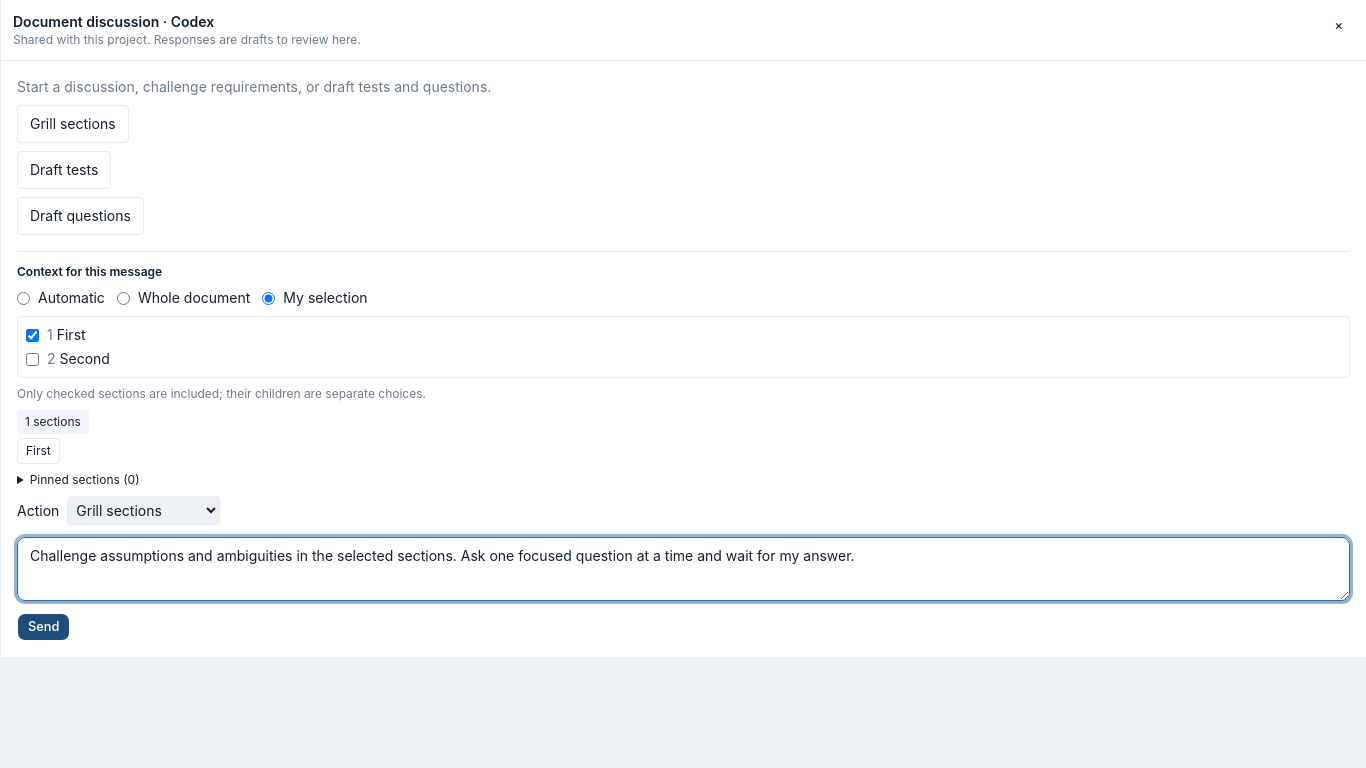
Test: document discussion › sends exactly the checked sections and editable action prompt without auto-sending
The width and height of the screenshot is (1366, 768).
Check: the checkbox labelled "First" is shown, box [26,329,39,342]
Click the checkbox labelled "Second" at [32, 360], box [26,353,39,366]
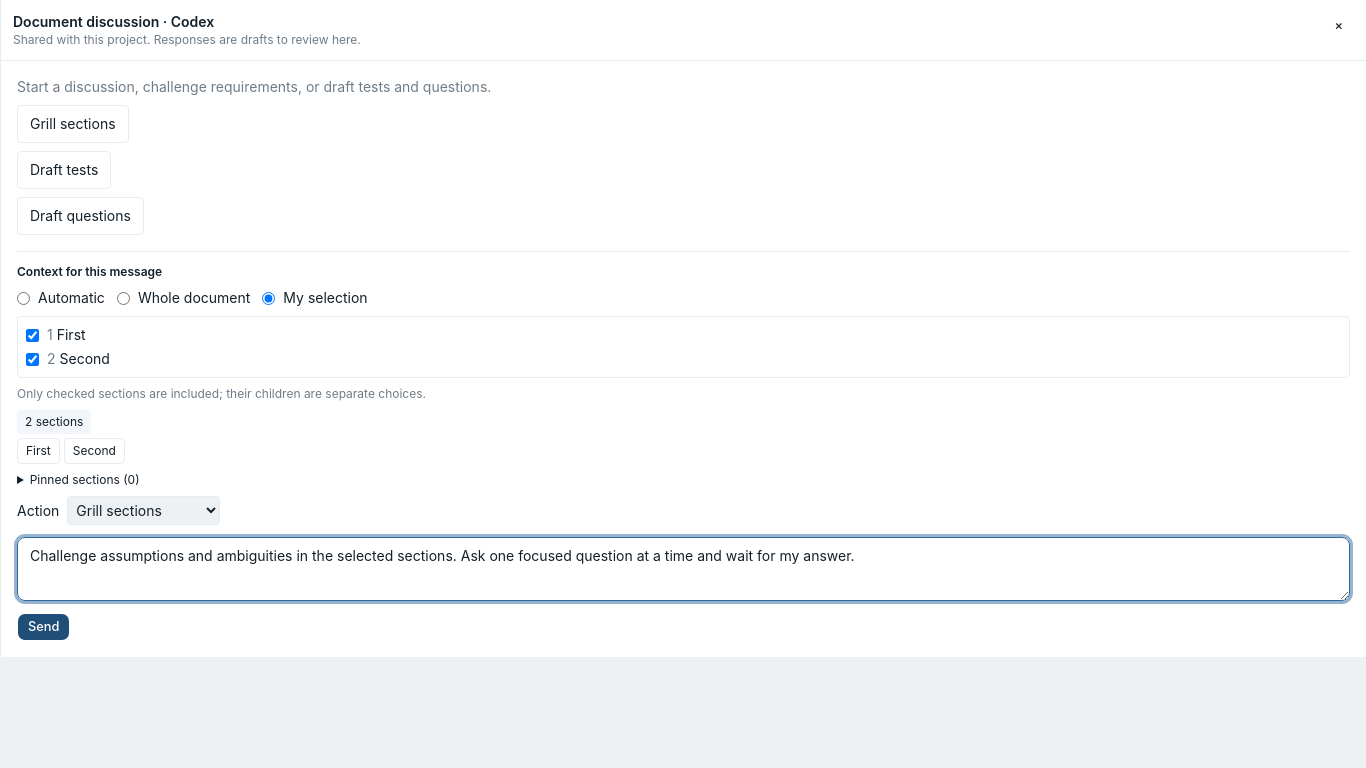
Select "Draft tests" in the dropdown labelled "Action" at [144, 511], box [67,496,220,525]
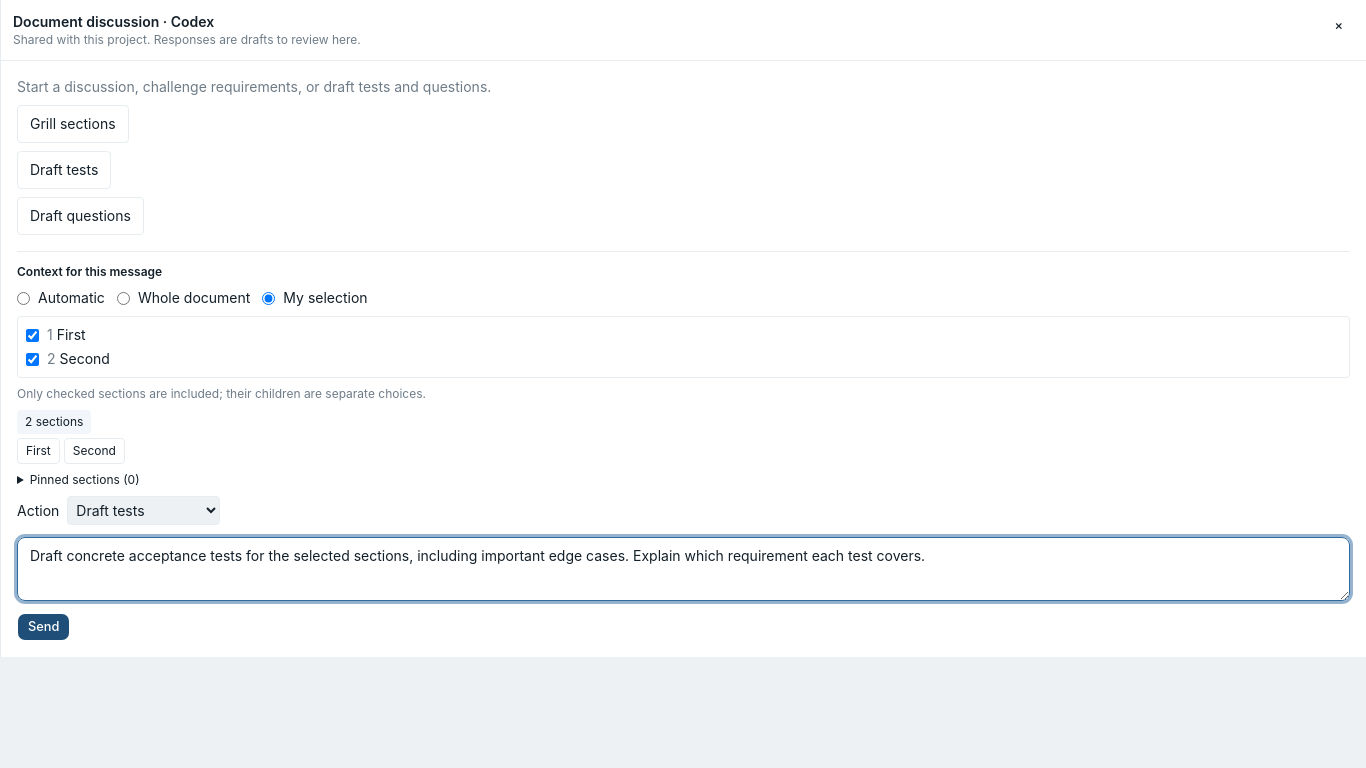
Replace the text in the text box named "Your instruction or reply" with "Test the failure paths too" at [684, 569], box [17,537,1350,601]
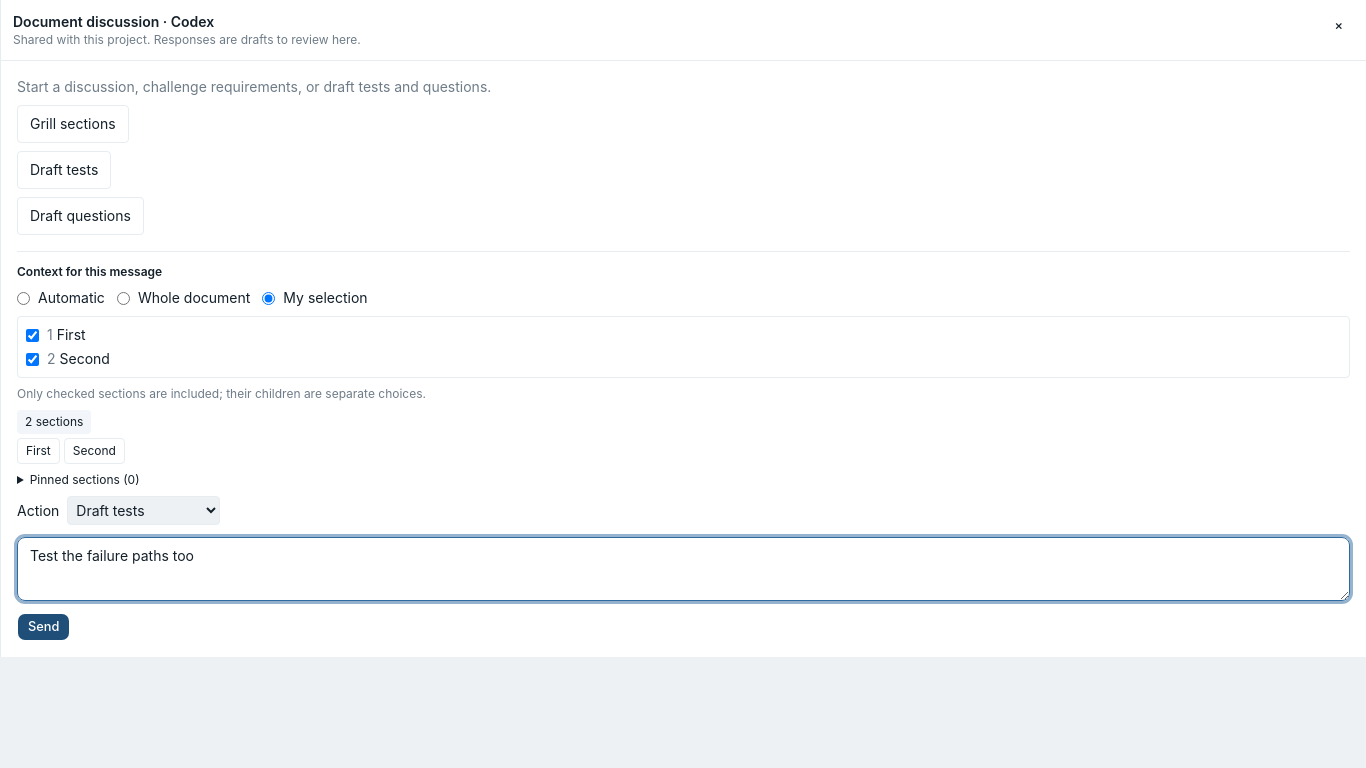
Click the button "Send" at [44, 627], box [17,613,70,641]
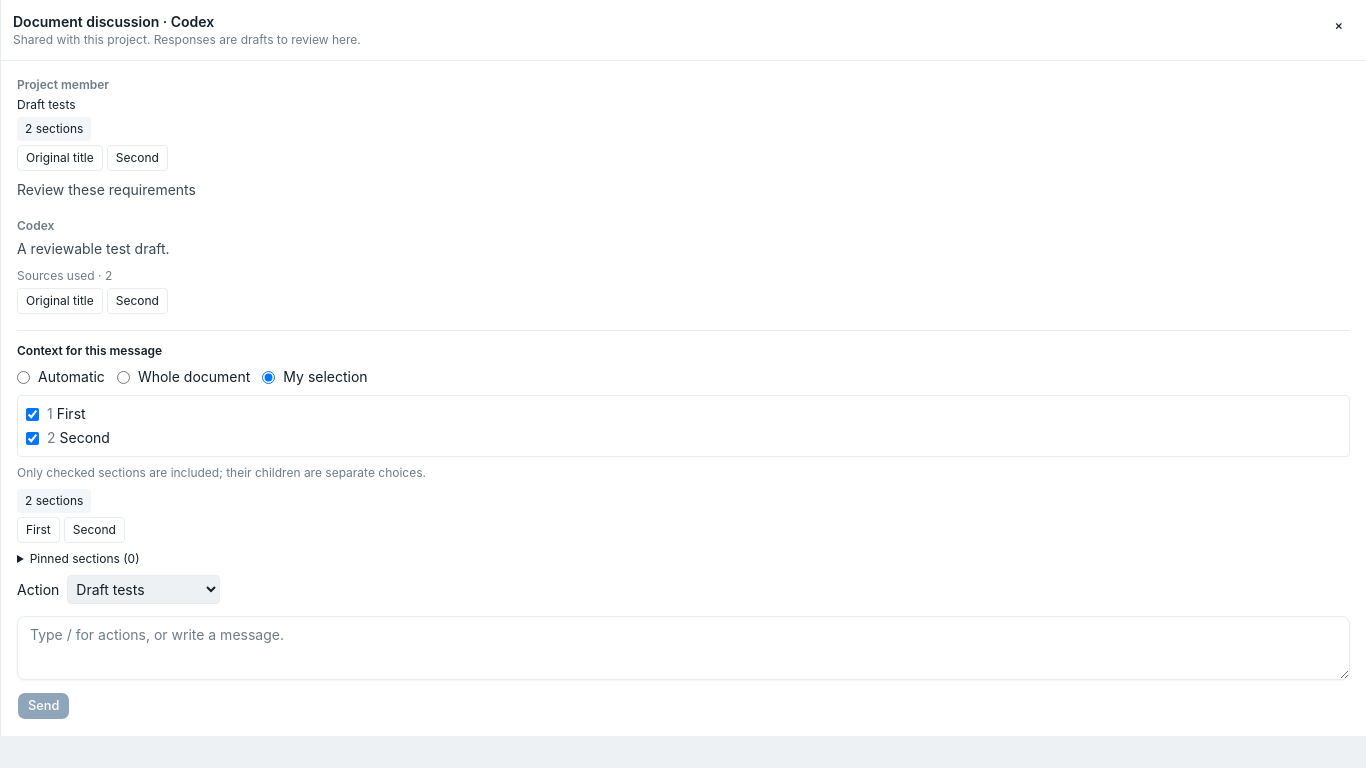
Check: the text "A reviewable test draft." is shown, box [17,240,170,257]
Check: the text "Original title" is shown, box [17,145,103,171]
